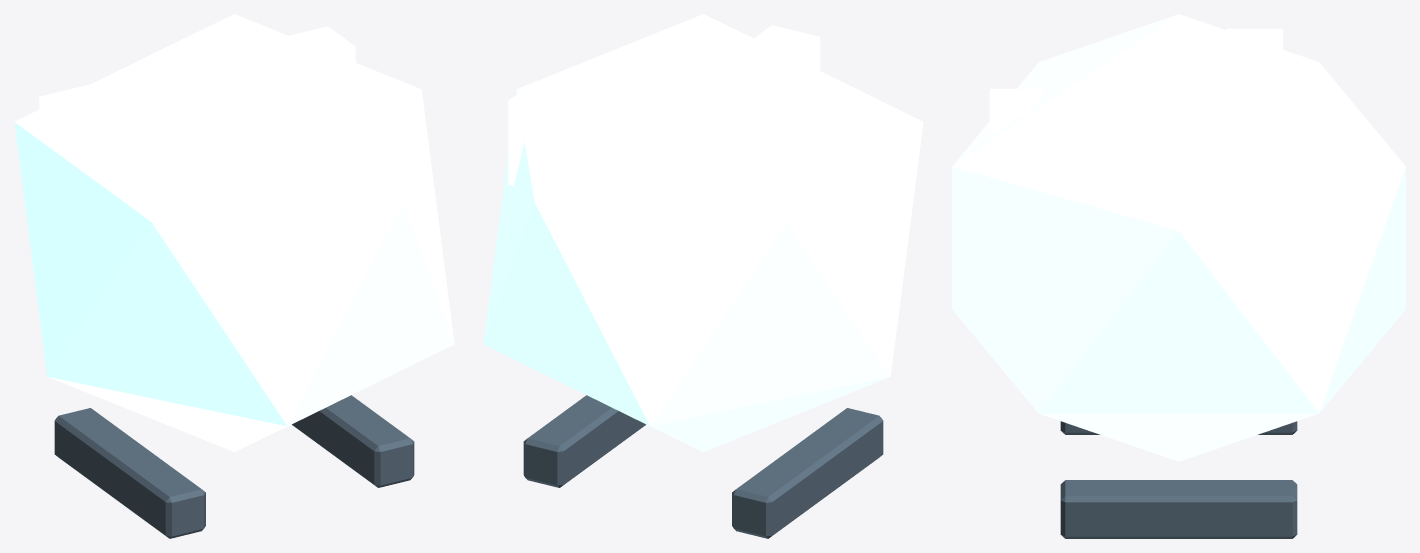
The model's file is shielded_scout.glb.
3 views of the same model, side by side, from view 1: azimuth 30°, elevation 25°; view 2: azimuth 150°, elevation 25°; view 3: azimuth 270°, elevation 25° (orthographic). The views are drawn at different scales.
Parts seen in each view (by area): view 1: Shield, Skid, Emitter3, Emitter2, Emitter1; view 2: Shield, Skid, Emitter1, Emitter2, Emitter3; view 3: Shield, Skid, Emitter1, Emitter3, Emitter2.
Part boxes in pixels (left/top/right/bottom): Shield: left=14, top=14, right=454, bottom=451; Skid: left=54, top=395, right=414, bottom=538; Emitter3: left=275, top=147, right=351, bottom=206; Emitter2: left=39, top=85, right=104, bottom=147; Emitter1: left=289, top=26, right=355, bottom=62; Shield: left=483, top=14, right=923, bottom=451; Skid: left=523, top=395, right=883, bottom=538; Emitter1: left=508, top=80, right=577, bottom=185; Emitter2: left=748, top=141, right=824, bottom=201; Emitter3: left=754, top=25, right=820, bottom=70; Shield: left=952, top=14, right=1405, bottom=461; Skid: left=1060, top=421, right=1297, bottom=538; Emitter1: left=1226, top=148, right=1282, bottom=258; Emitter3: left=989, top=88, right=1045, bottom=134; Emitter2: left=1226, top=28, right=1282, bottom=53.
Bounding box in the file's own units: 0.9338 × 1.08 × 0.9591.
